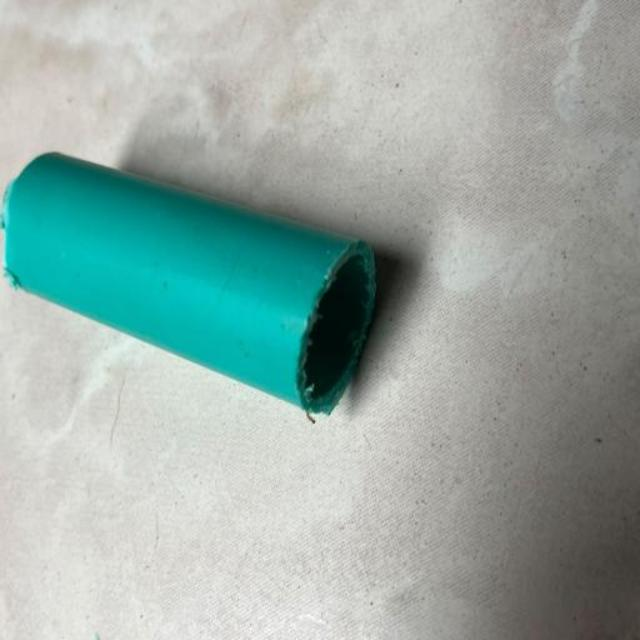PVC: (0, 141, 444, 429)
